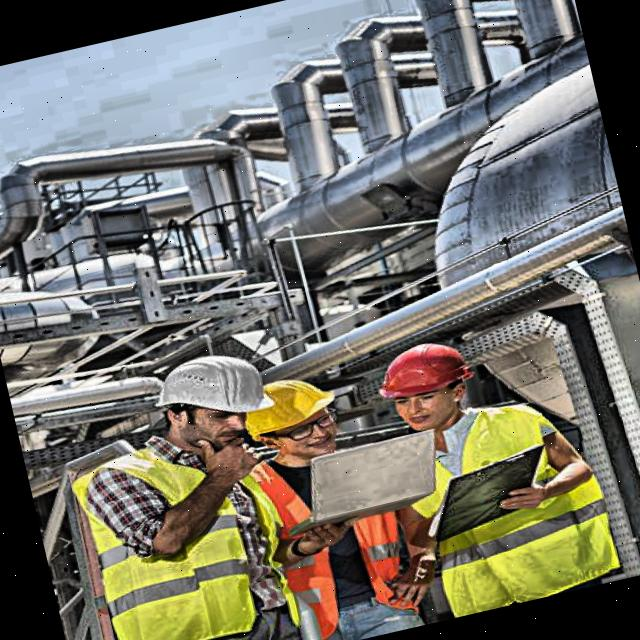helmet: (136, 329, 282, 472), (353, 320, 499, 441), (220, 358, 364, 478)
